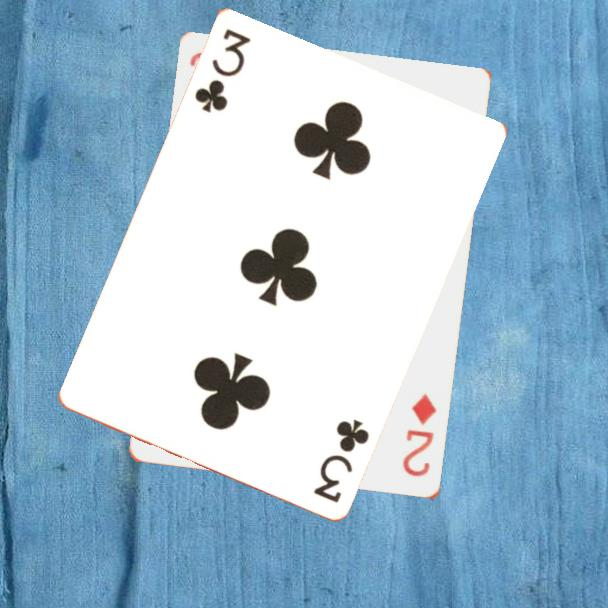c03: (190, 24, 254, 116), (309, 415, 372, 505)
d02: (399, 391, 440, 480)
